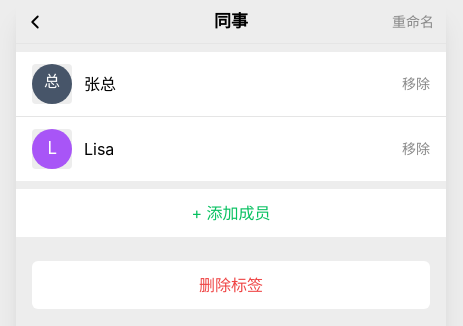
Test: 标签管理页面 › 标签详情展示成员，移除后成员消失
expect the element with test id "tag-member-boss" is shown: met, box [16, 52, 446, 116]
expect the element with test id "tag-member-lisa" is shown: met, box [16, 116, 446, 181]
Step 1. Click the button with test id "tag-member-remove-boss" → {"x": 416, "y": 84}, box [402, 74, 430, 94]
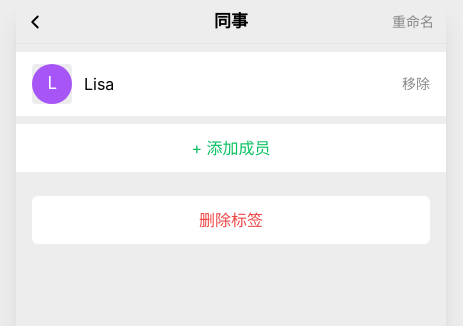
expect the element with test id "tag-member-boss" is gone: met
